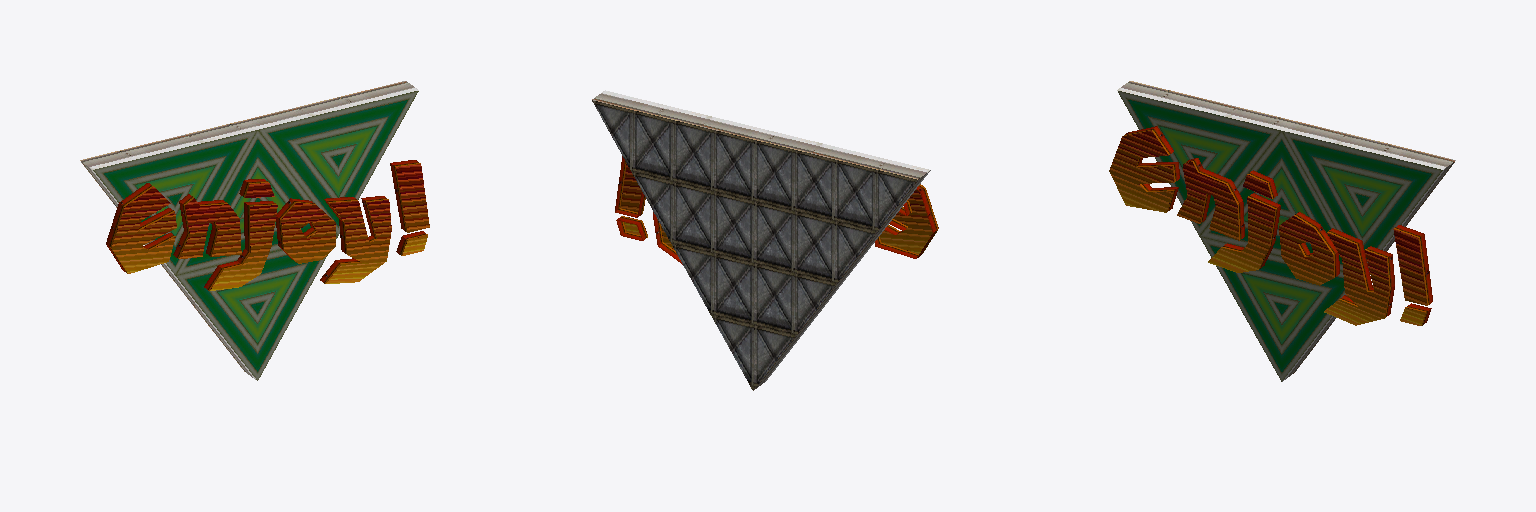
3 renders of one model, left to right at view 1: azimuth 30°, elevation 25°; view 2: azimuth 150°, elevation 25°; view 3: azimuth 330°, elevation 25°, orthographic.
Visible parts, largest first — view 1: polygon4, polygon0, polygon2, polygon1; view 2: polygon3, polygon2, polygon0, polygon1; view 3: polygon4, polygon0, polygon1, polygon2.
Part boxes in pixels (x1,y1,x2,y2): polygon4: (93,91,418,380); polygon0: (112,164,429,290); polygon2: (80,81,418,379); polygon1: (106,160,427,290); polygon3: (592,100,916,389); polygon2: (592,90,930,390); polygon0: (621,165,932,253); polygon1: (615,156,938,264); polygon4: (1118,91,1442,381); polygon0: (1109,130,1426,325); polygon1: (1122,126,1432,325); polygon2: (1117,81,1455,381).
Size of the model in its own units: 138 by 102 by 19.48.
Materials: 5 (5 with a texture image).